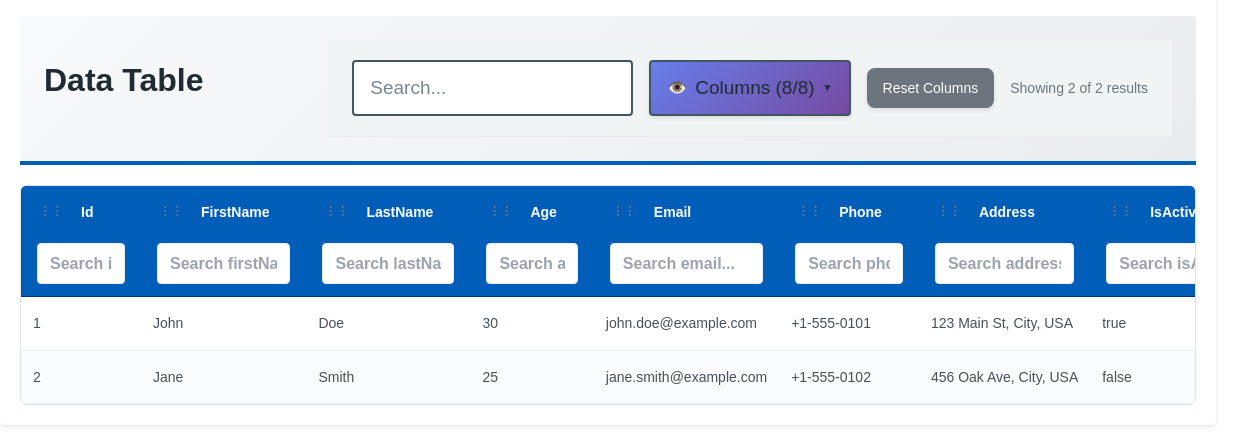
DataTable Component - Basic Tests › sorts data when column header is clicked
The width and height of the screenshot is (1233, 444).
Click the text "Age" at [544, 212], box [530, 204, 557, 220]
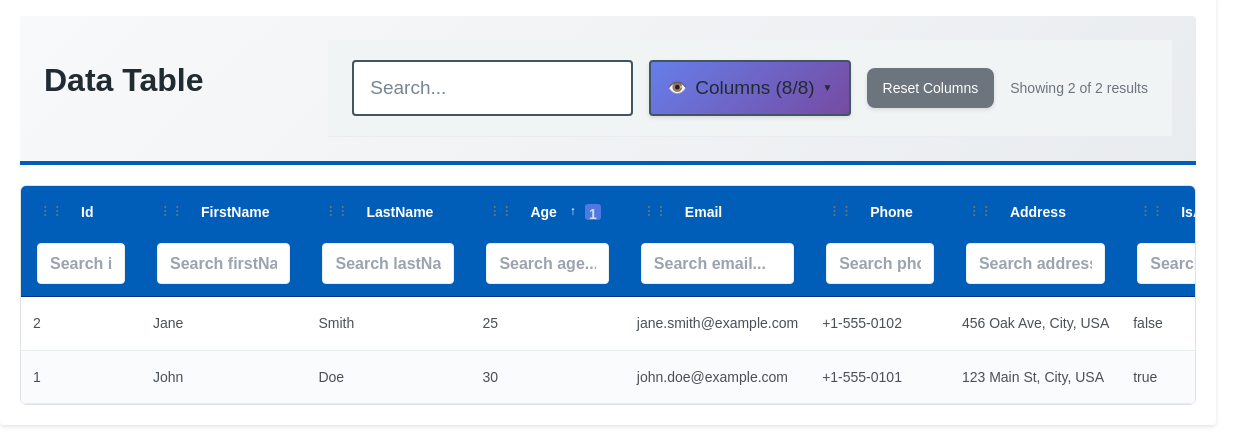
Now the row that starts with "Jane" is shown, box [153, 315, 183, 331]
